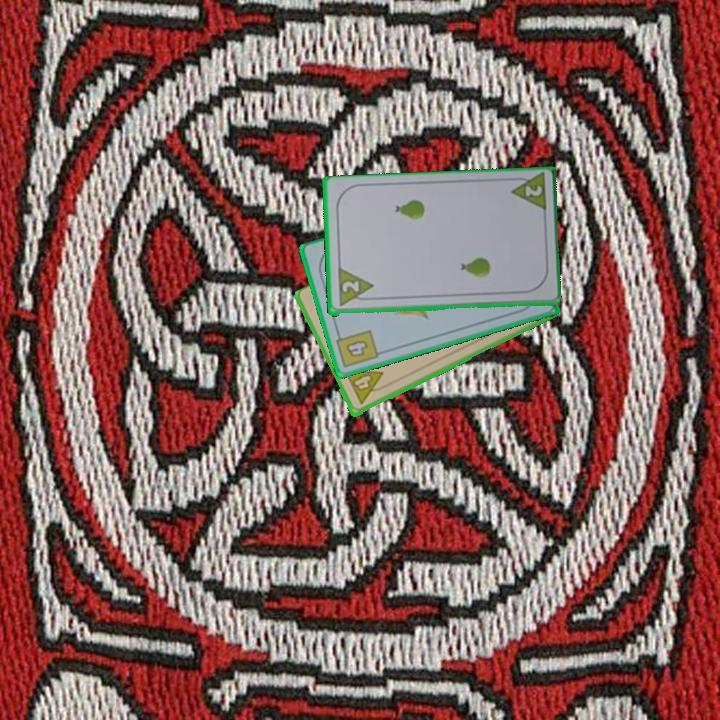2p: (338, 278, 362, 296), (521, 182, 545, 200)
4b: (333, 326, 381, 371)
4p: (341, 366, 391, 408)
